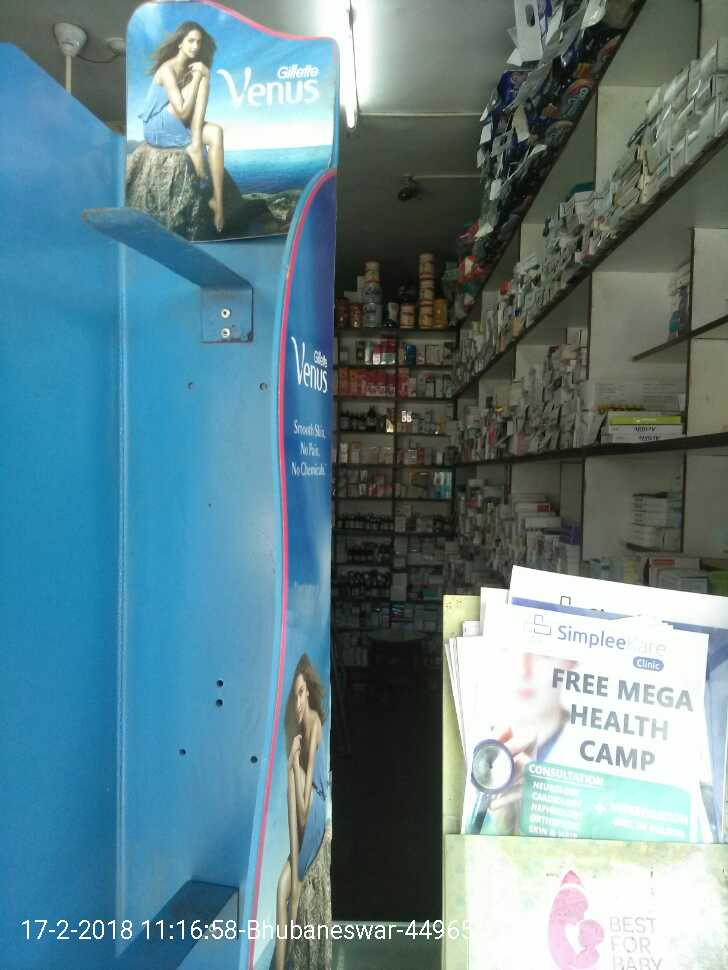reject: (289, 348, 371, 553)
